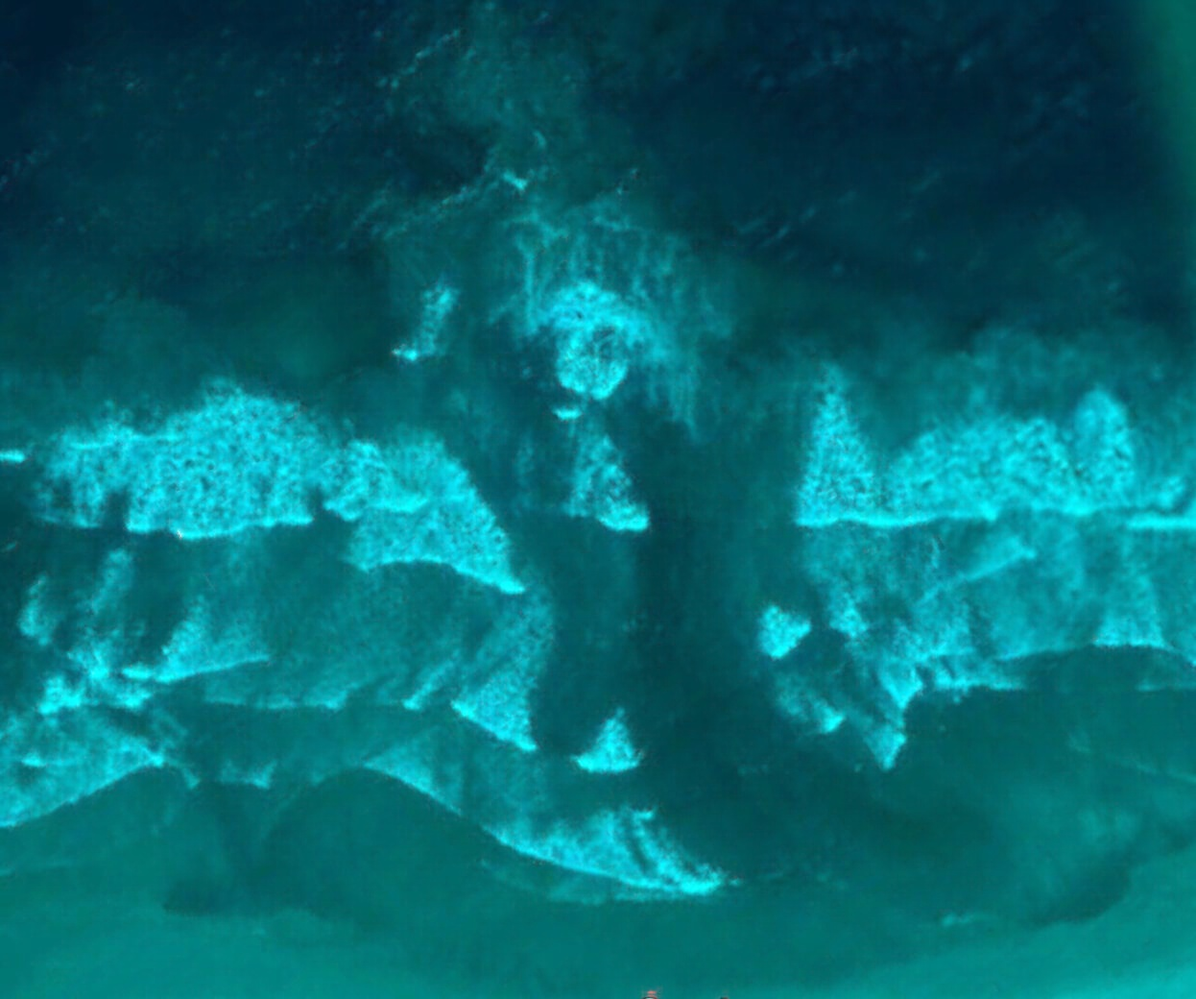rip_current: (482, 208, 945, 908)
